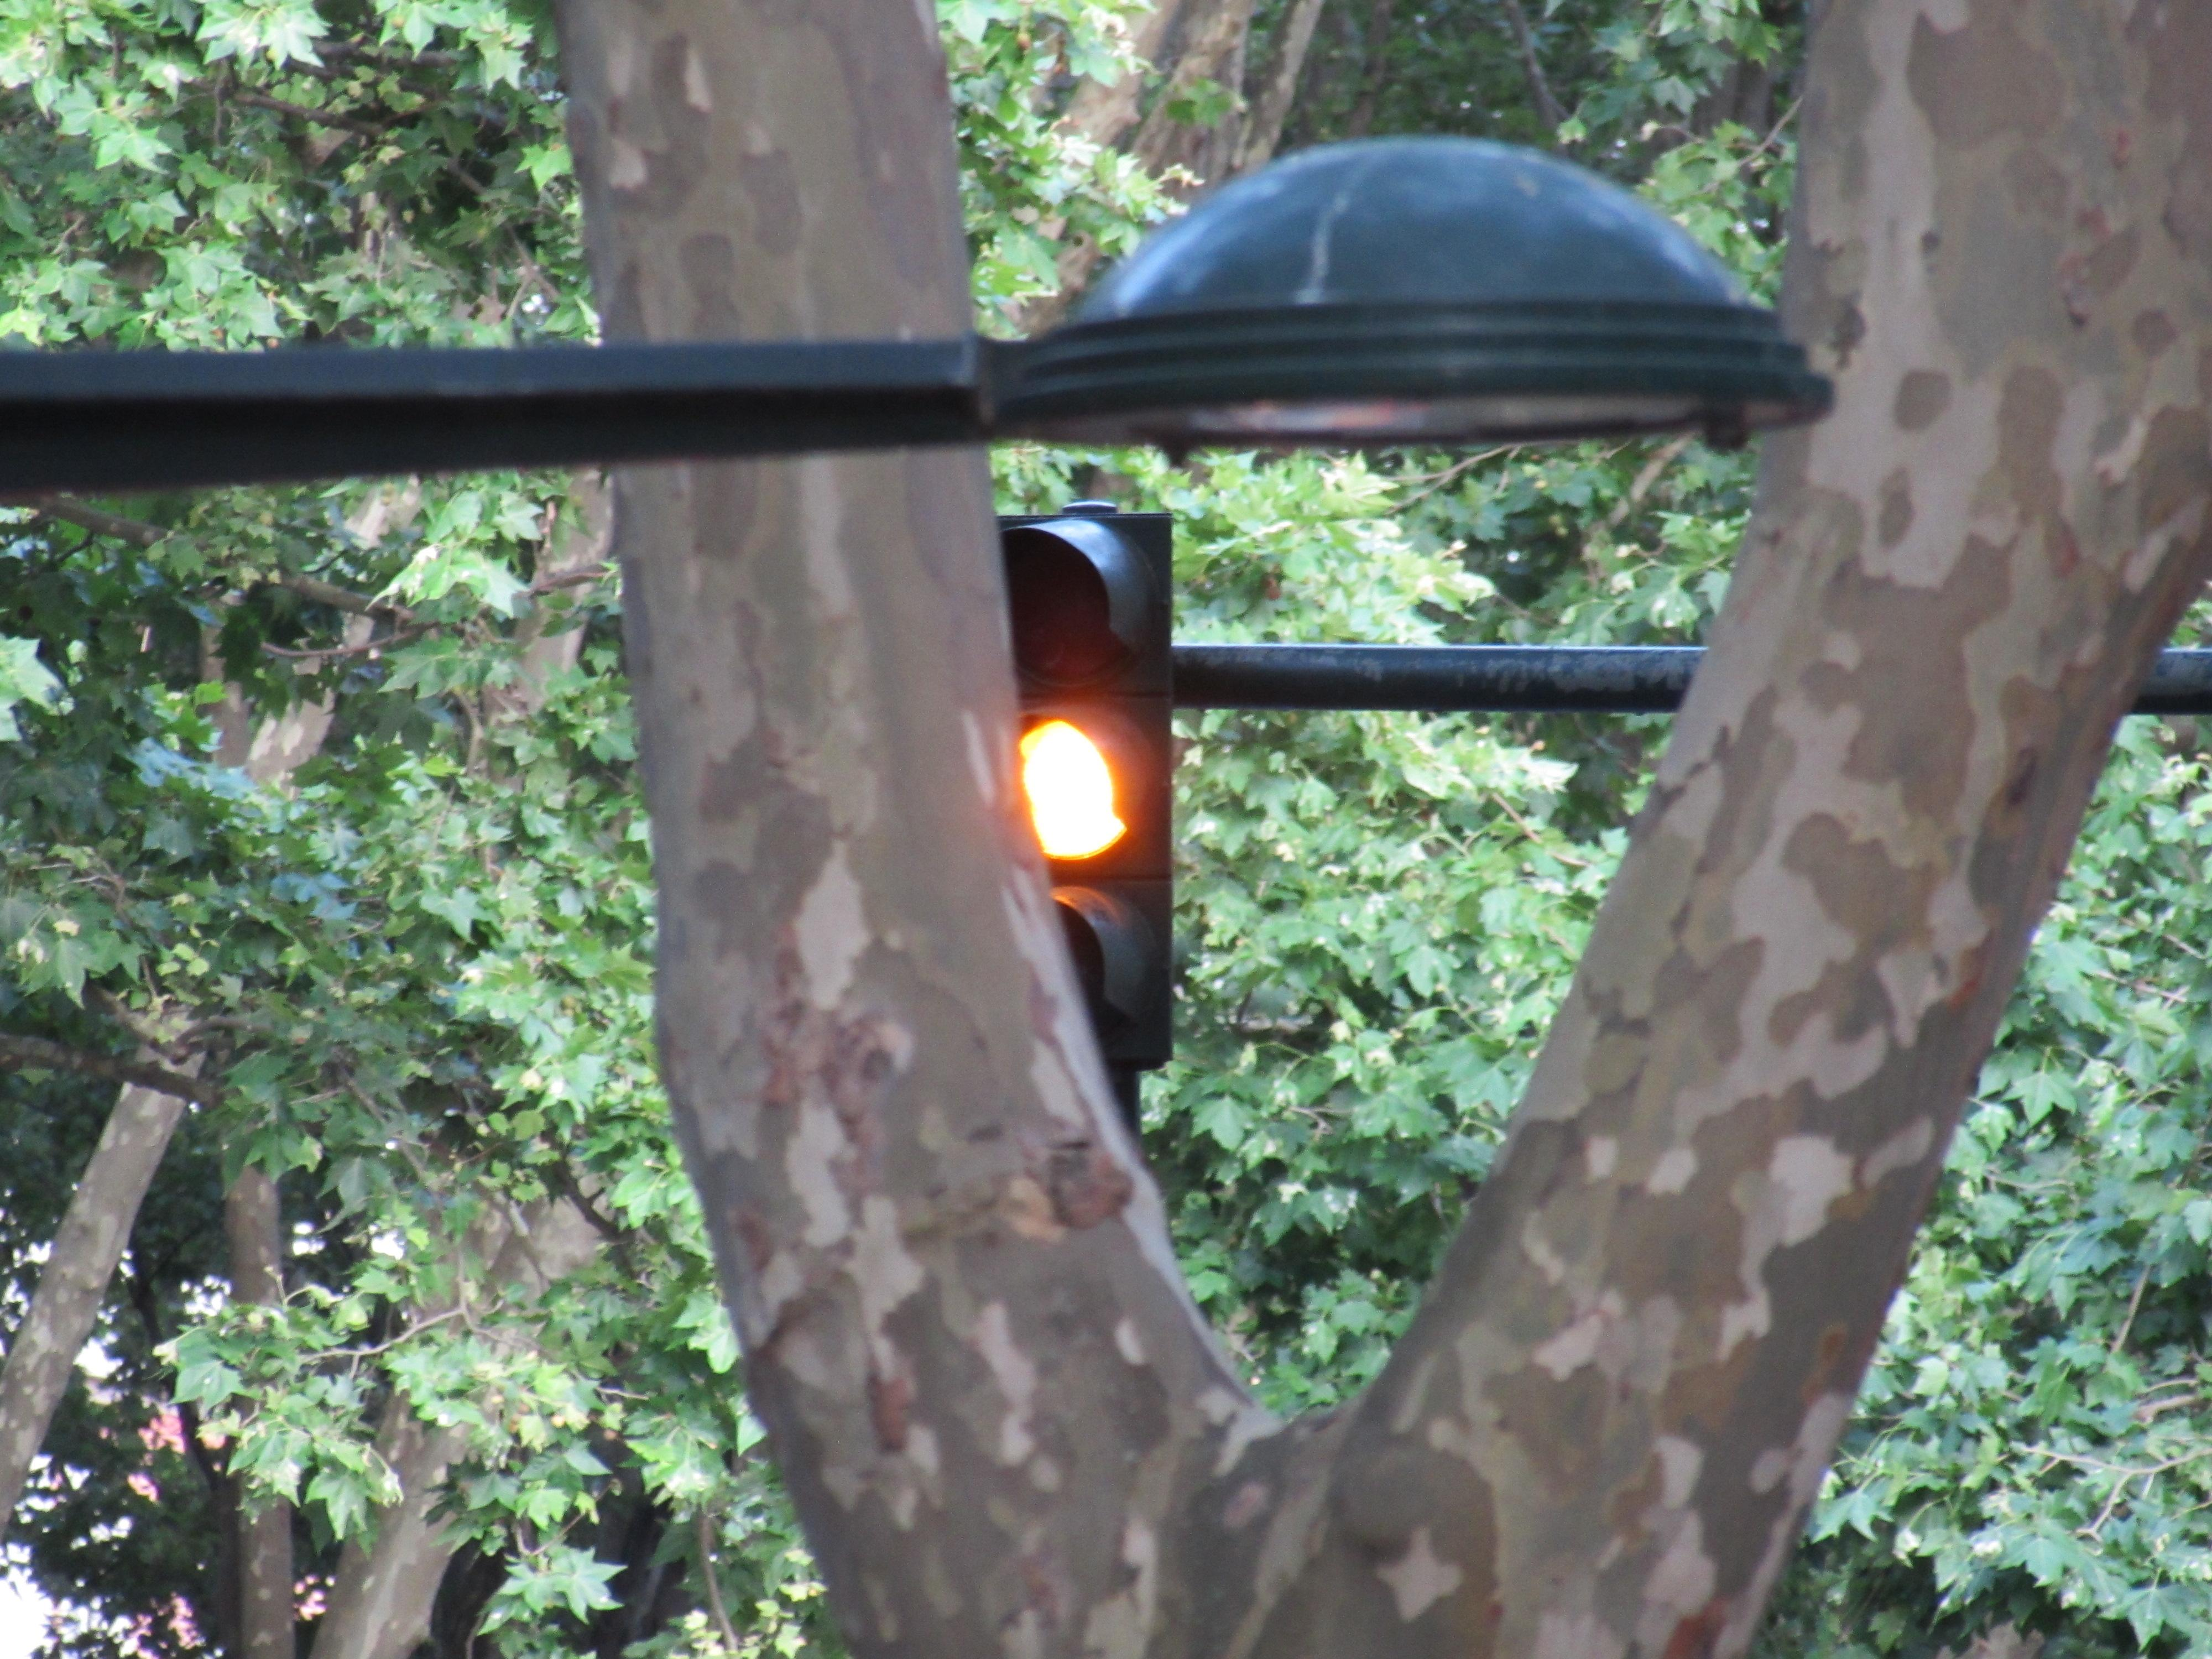yellow_light: (965, 512, 1172, 1066)
